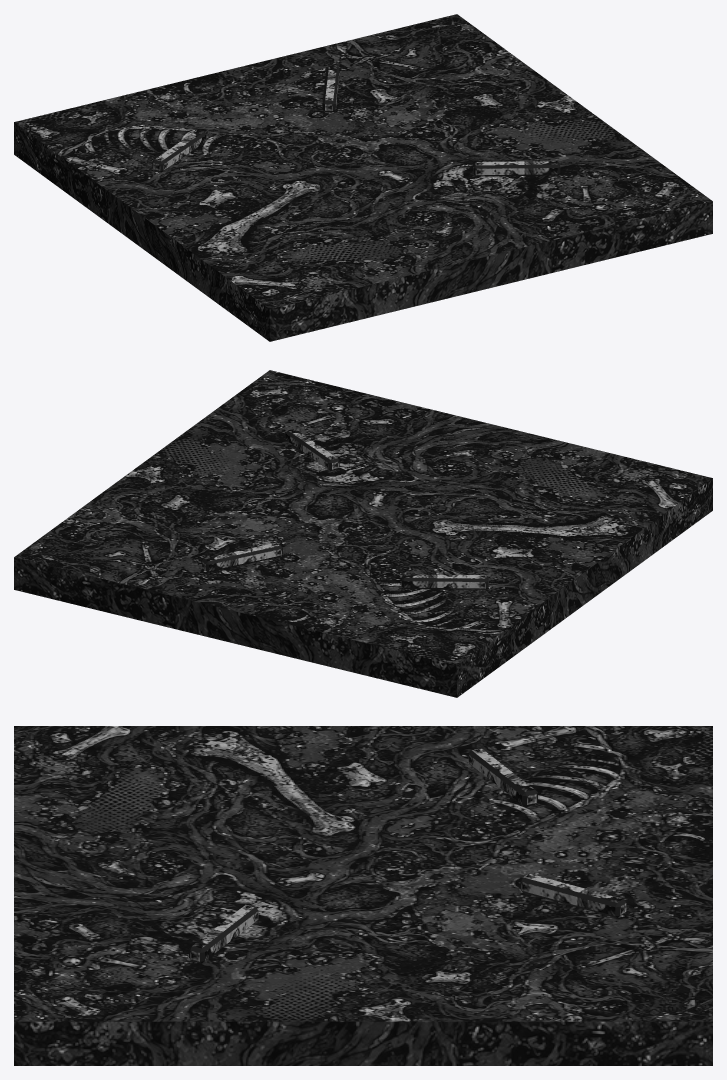
Rendered from adverse.glb.
3 renders of one model, top to bottom at view 1: azimuth 30°, elevation 25°; view 2: azimuth 150°, elevation 25°; view 3: azimuth 270°, elevation 25°, orthographic. The views are drawn at different scales.
Parts seen in each view (by area): view 1: Square foundation.004, Half buried bone.001, Half buried bone, Half buried bone.002; view 2: Square foundation.004, Half buried bone, Half buried bone.002, Half buried bone.001; view 3: Square foundation.004, Half buried bone.002, Half buried bone.001, Half buried bone.
Boxes of the visible parts, left/top/right/bottom form: Square foundation.004: left=14, top=14, right=712, bottom=341; Half buried bone.001: left=473, top=161, right=560, bottom=176; Half buried bone: left=152, top=130, right=206, bottom=172; Half buried bone.002: left=322, top=66, right=339, bottom=111; Square foundation.004: left=14, top=370, right=712, bottom=697; Half buried bone: left=401, top=574, right=488, bottom=589; Half buried bone.002: left=202, top=542, right=282, bottom=572; Half buried bone.001: left=285, top=428, right=339, bottom=470; Square foundation.004: left=14, top=726, right=712, bottom=1065; Half buried bone.002: left=520, top=873, right=626, bottom=917; Half buried bone.001: left=189, top=904, right=258, bottom=963; Half buried bone: left=468, top=748, right=537, bottom=806.
Bounding box in the file's own units: 1 × 0.094 × 1.
Materials: 2 (1 with a texture image).
